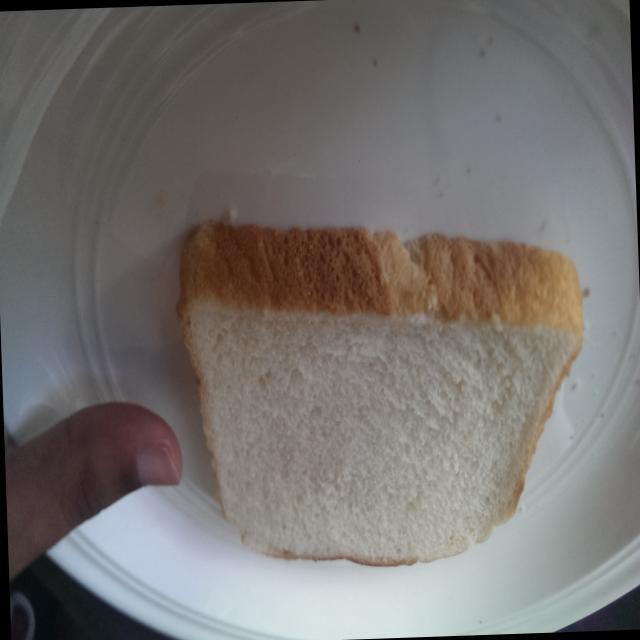Bread: (172, 198, 598, 590)
Finger: (56, 389, 195, 555)
